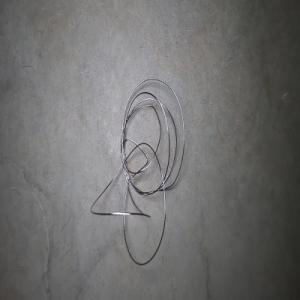Wire: (90, 77, 184, 265)
